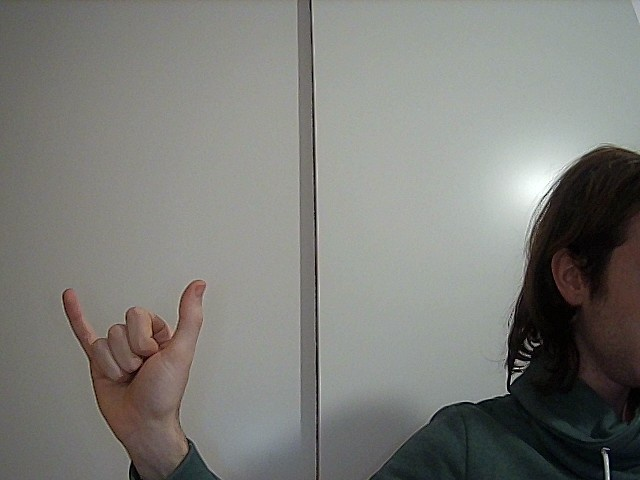y: (53, 279, 224, 419)
